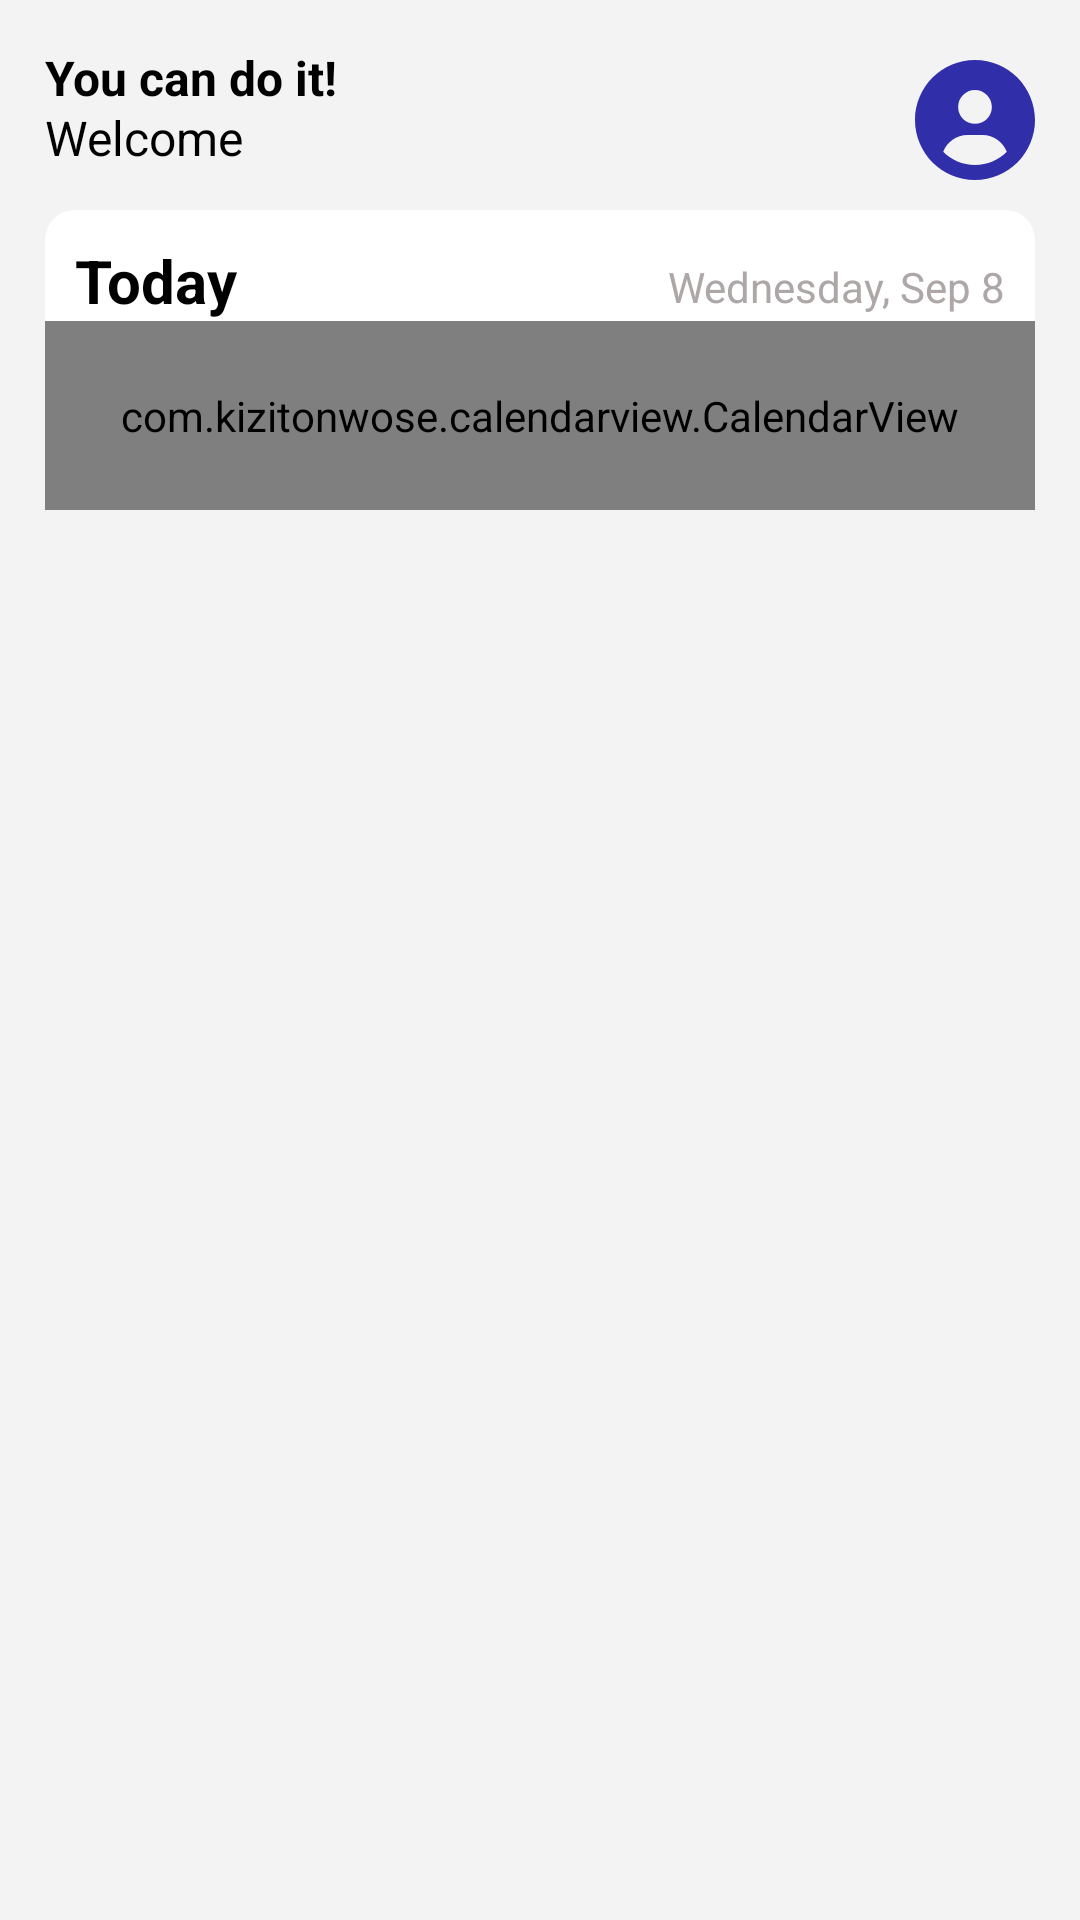

Named icons in this screenshot (1080×1920) and their centers, [x,y]:
circle user: [975,120]
